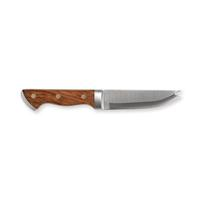knife: (15, 77, 194, 115)
